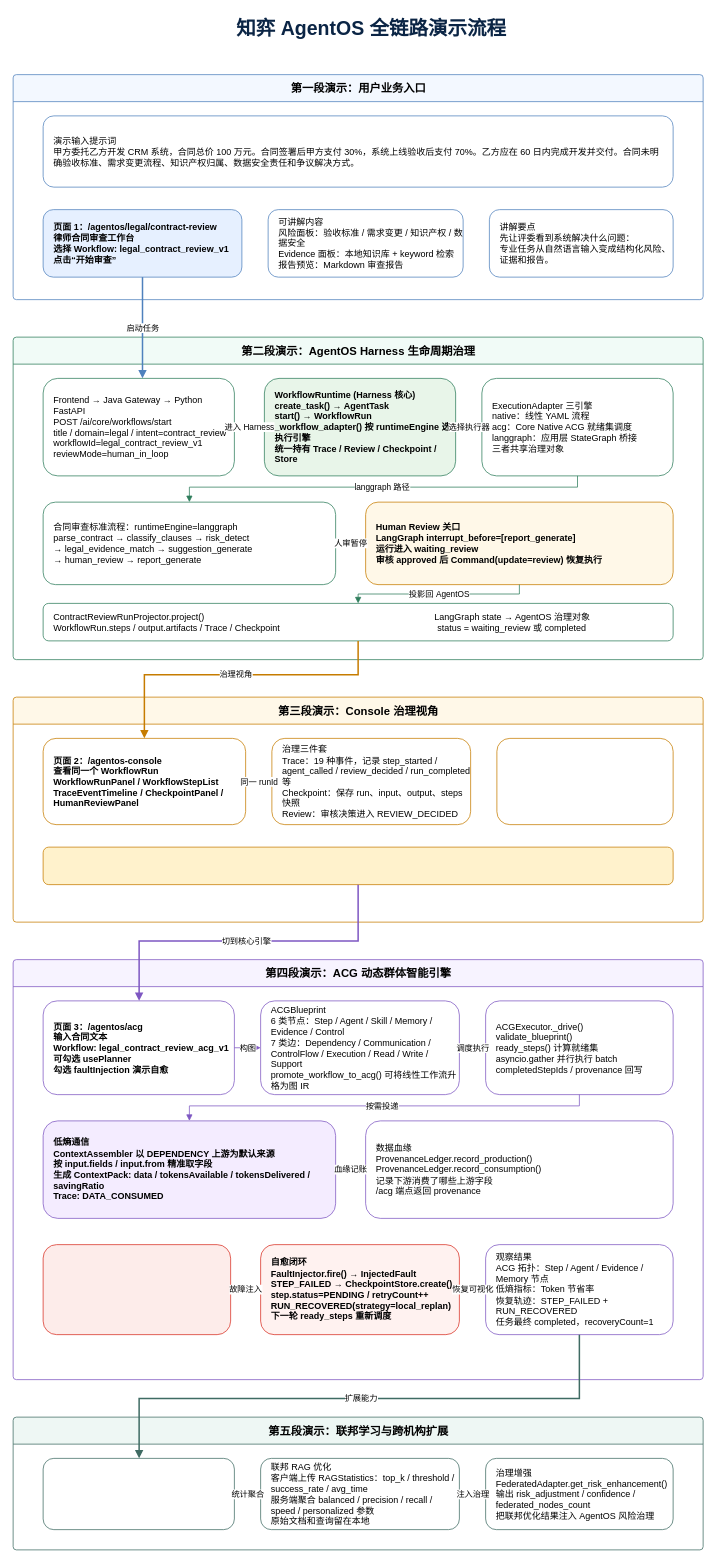
This 716x1563 diagram has some shape labels left out. Here are the shapes that lost their labels. From the top down, the centre of each, then its label:
At (584,781): "讲解要点 AgentOS 的价值不是只给答案， 而是让专业任务有运行状态、审核点、恢复点和可导出的黑匣子记录。".
At (357,865): "答辩提示：合同审查页展示业务交付，Console 展示 Harness 工程治理；两者指向同一个 runId。".
At (136,1289): "ACG 自愈演示输入 勾选：注入故障演示自愈 节点：risk_detect 故障类型：模型超时 timeout max_triggers=1".
At (138,1494): "页面 4：/federated-learning 联邦网络拓扑 / 训练曲线 / 模型聚合 / 隐私保护 用于展示跨机构协作能力".
